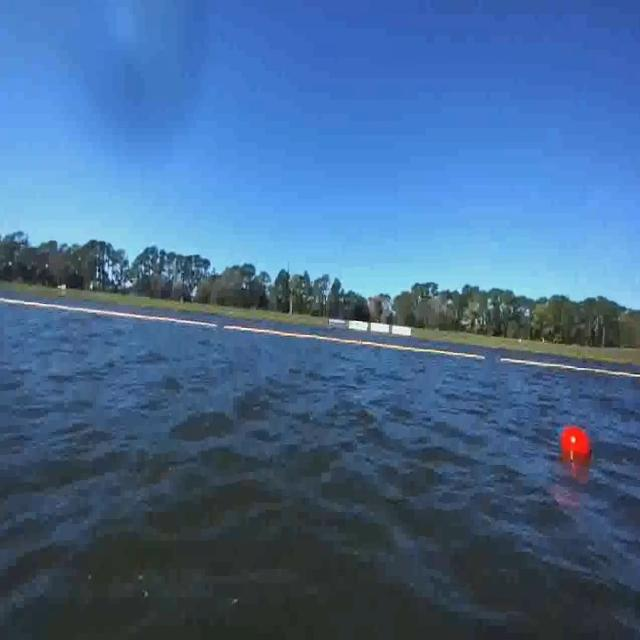red-buoy: (559, 424, 593, 464)
